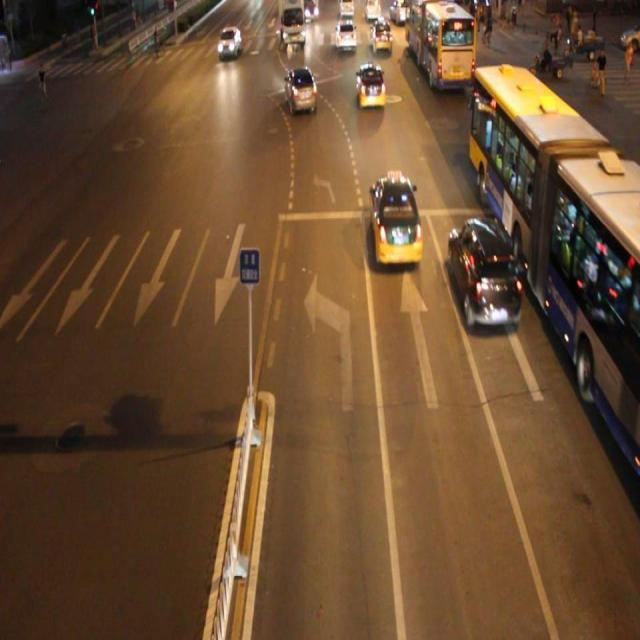car: (448, 219, 518, 327), (369, 170, 422, 266), (284, 64, 318, 113), (355, 61, 385, 110)
van: (470, 67, 640, 471)
